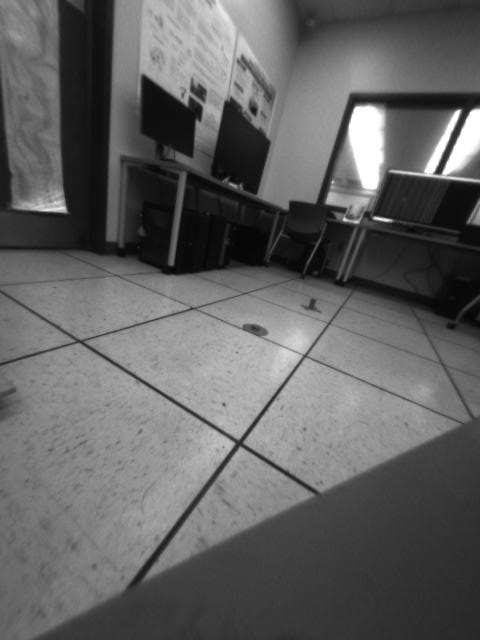X: (299, 297, 323, 314)
